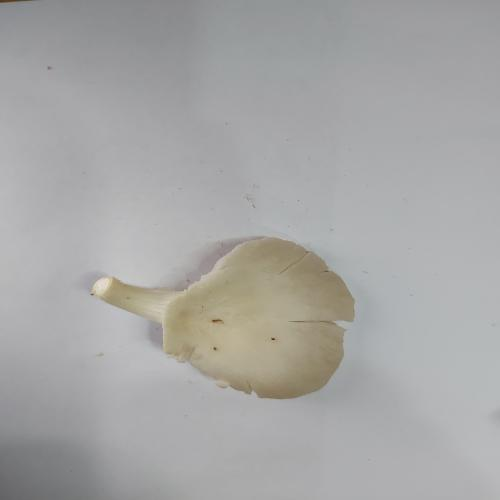Oyster Mushroom: (90, 235, 356, 400)
